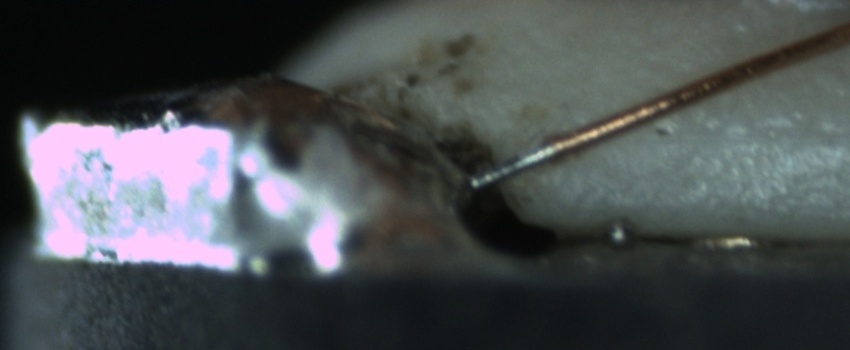DL: (634, 102, 848, 162)
TS: (466, 140, 554, 191)
